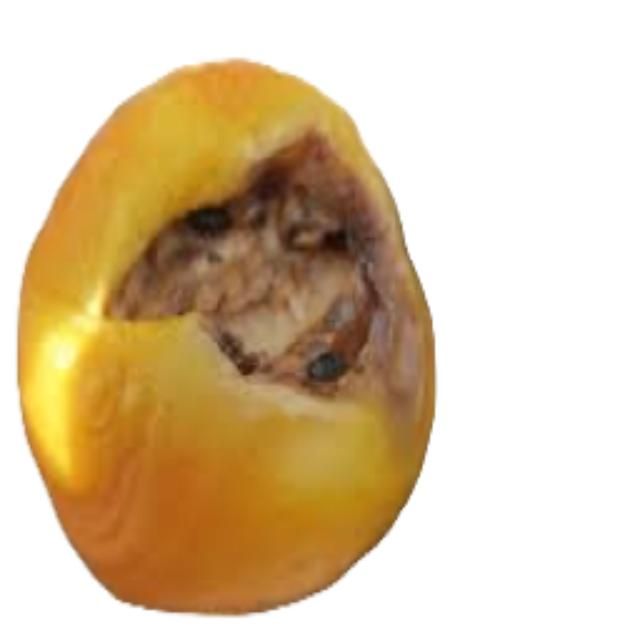defect: (12, 47, 442, 622)
